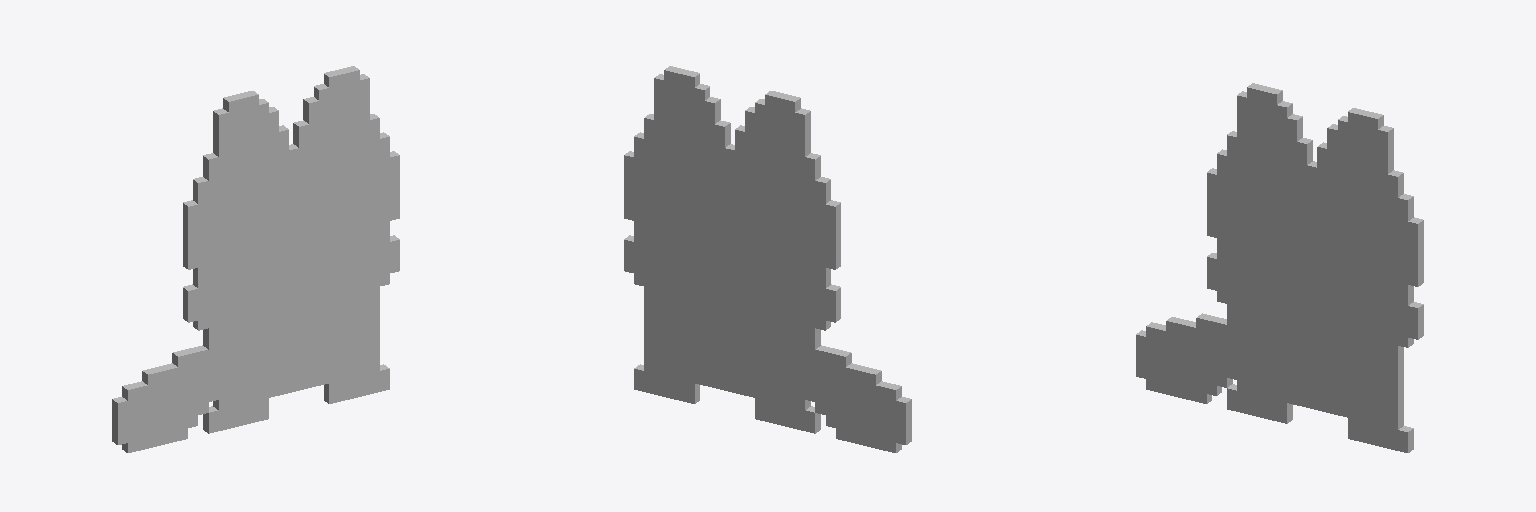
File: raccoon walk 2.obj
The picture shows the model from 3 angles: view 1: azimuth 30°, elevation 25°; view 2: azimuth 150°, elevation 25°; view 3: azimuth 330°, elevation 25°; orthographic projection.
Parts seen in each view (by area): view 1: object 1; view 2: object 1; view 3: object 1.
Part boxes in pixels (bbox=[...]): object 1: bbox=[112, 66, 399, 452]; object 1: bbox=[624, 66, 911, 452]; object 1: bbox=[1136, 83, 1423, 452].
Size of the model in its own units: 2.8 by 3.1 by 0.1.